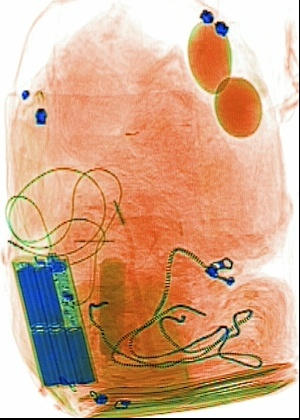powerbank: (9, 249, 97, 387)
